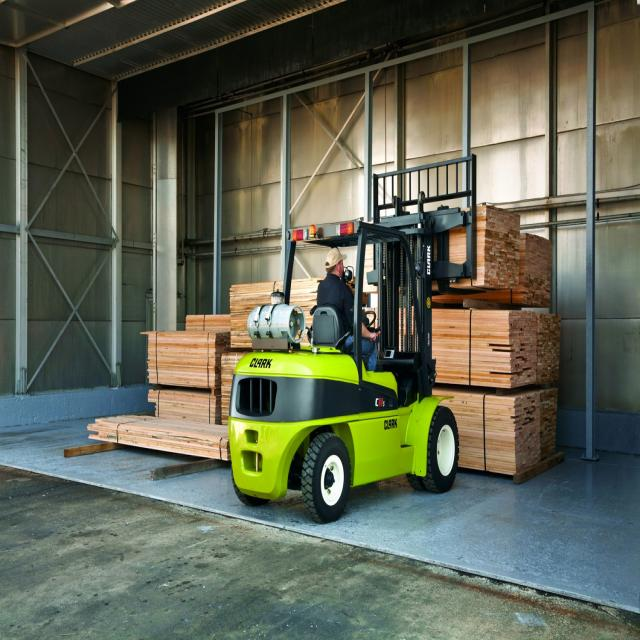forklift: (222, 212, 464, 522)
